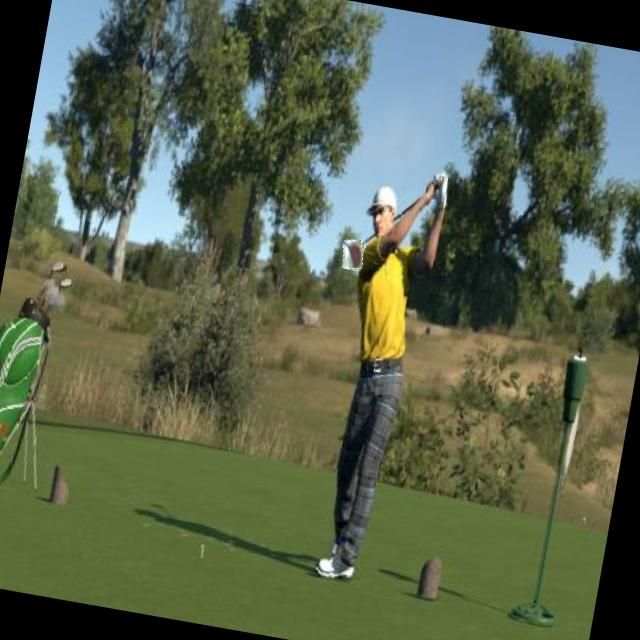club head: (340, 238, 366, 271)
